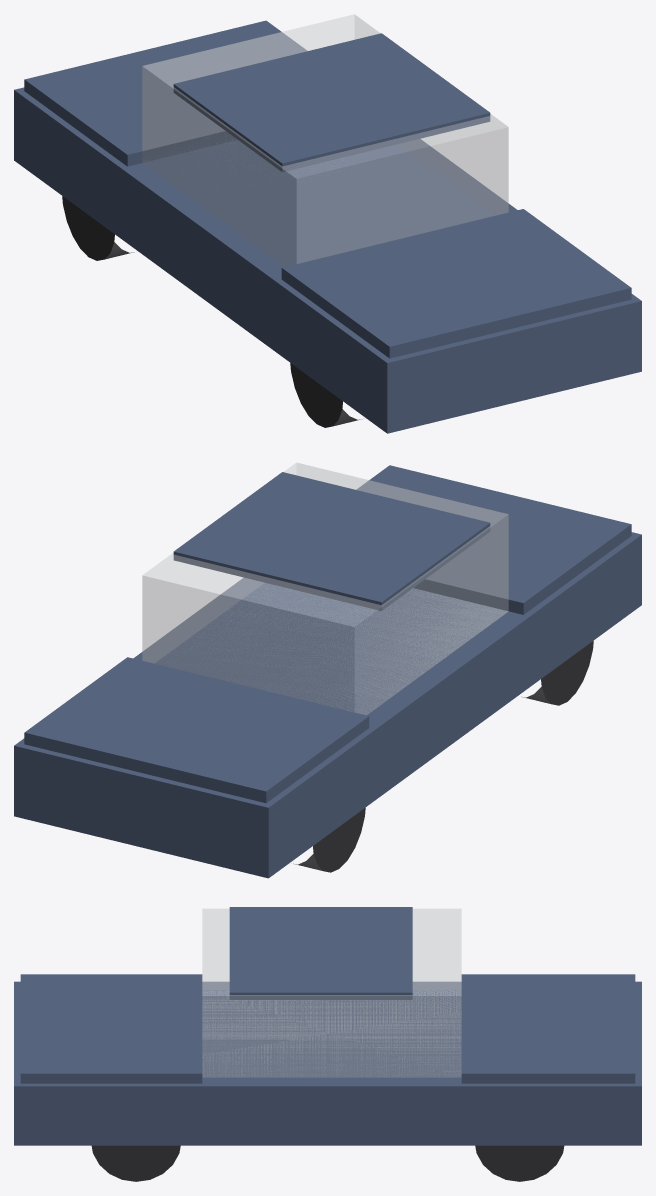
3 renders of one model, top to bottom at view 1: azimuth 30°, elevation 25°; view 2: azimuth 150°, elevation 25°; view 3: azimuth 270°, elevation 25°, orthographic. The views are drawn at different scales.
Visible parts, largest first — view 1: vehicle; view 2: vehicle; view 3: vehicle.
Boxes of the visible parts, left/top/right/bottom form: vehicle: left=14, top=14, right=641, bottom=433; vehicle: left=14, top=462, right=641, bottom=878; vehicle: left=14, top=907, right=641, bottom=1181.
Size of the model in its own units: 1.81 by 1.46 by 4.6.
